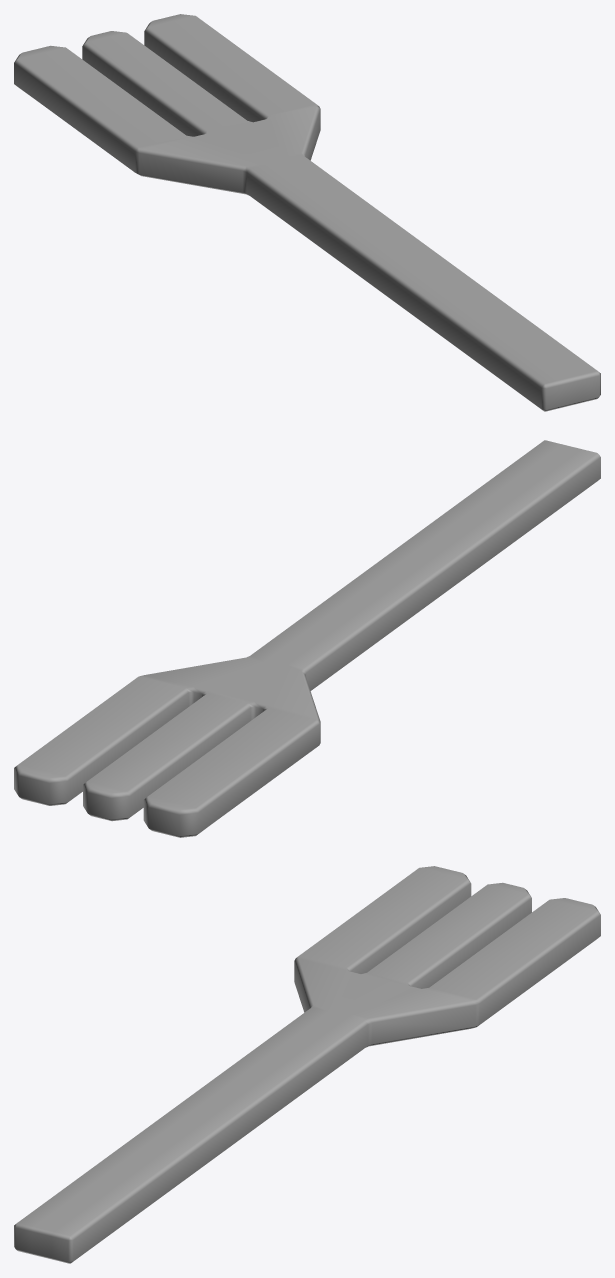
Rendered from Fork_1.glb.
3 renders of one model, top to bottom at view 1: azimuth 30°, elevation 25°; view 2: azimuth 150°, elevation 25°; view 3: azimuth 330°, elevation 25°, orthographic.
Parts seen in each view (by area): view 1: Fork_1; view 2: Fork_1; view 3: Fork_1.
Boxes of the visible parts, x1,y1,x2,y2 form: Fork_1: [14, 14, 600, 411]; Fork_1: [14, 440, 600, 837]; Fork_1: [14, 866, 600, 1263].
Size of the model in its own units: 0.0659 by 0.00963 by 0.293.
Materials: 1 (1 with a texture image).
